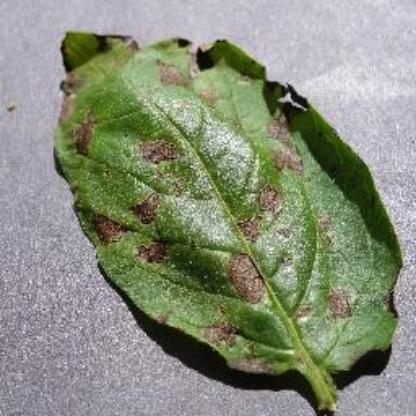Early-Blight: (50, 23, 411, 415)
